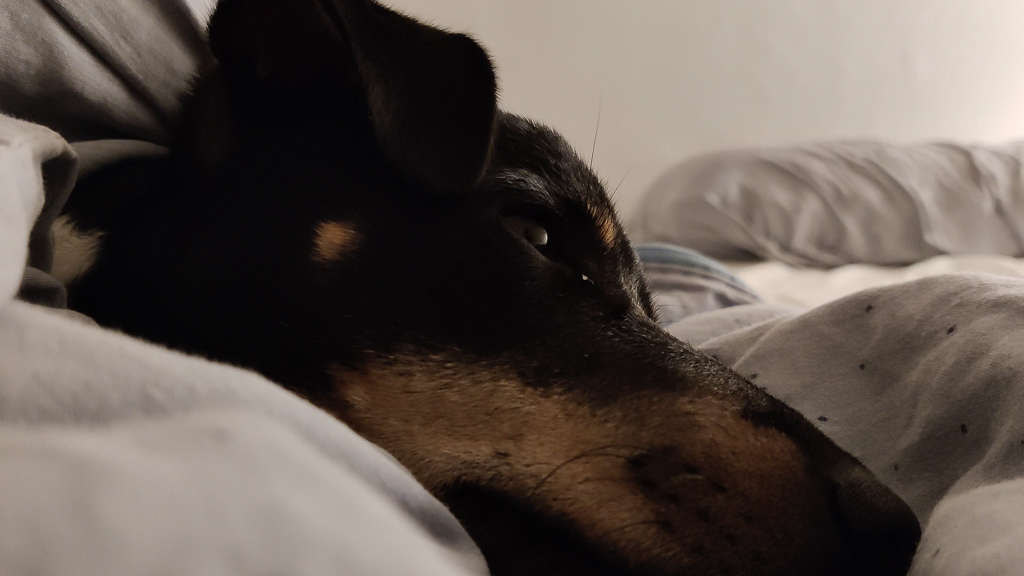Dog: (38, 0, 928, 576)
